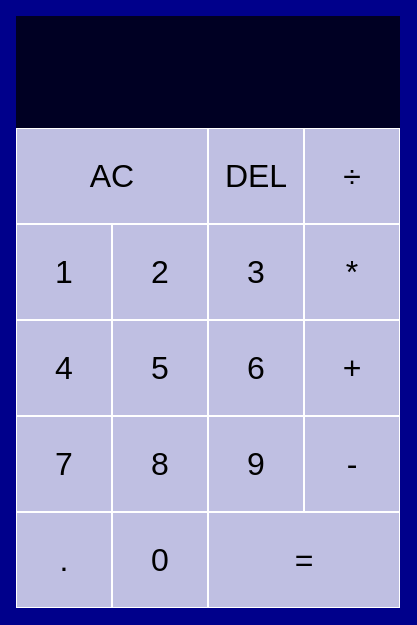
Calculator › displays digits and operations correctly
The width and height of the screenshot is (417, 625).
Click the button with test id "one" at (64, 272), box [16,224,112,320]
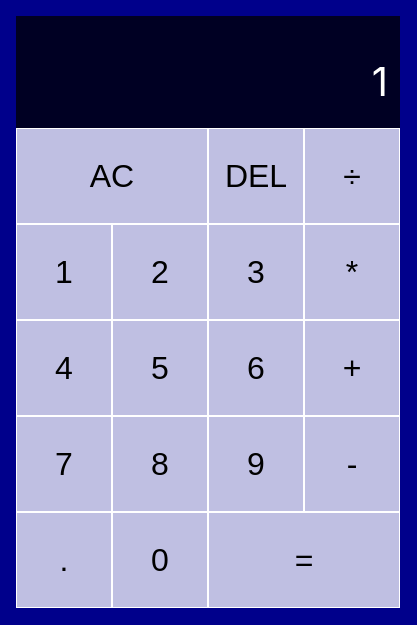
Click the button with test id "two" at (160, 272), box [112,224,208,320]
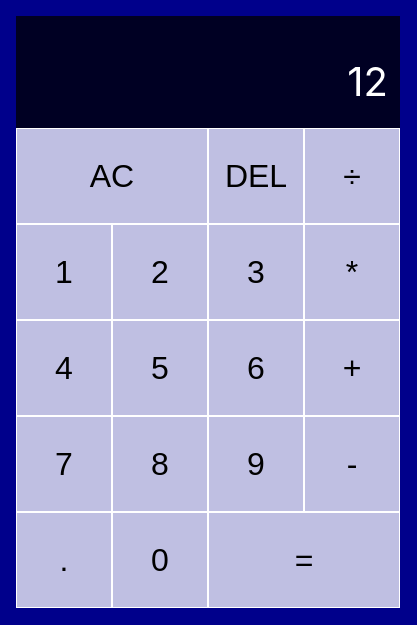
Click the button with test id "addition" at (352, 368), box [304,320,400,416]
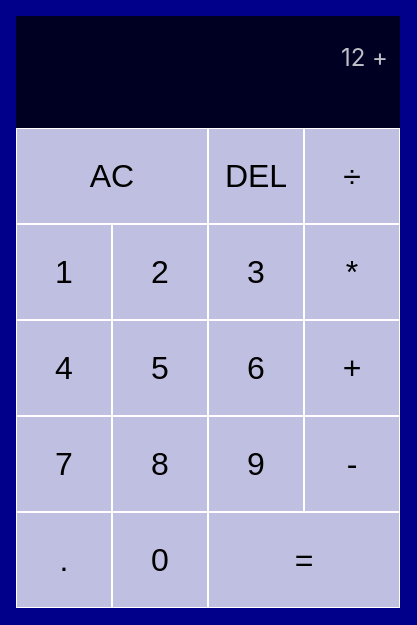
Click the button with test id "three" at (256, 272), box [208,224,304,320]
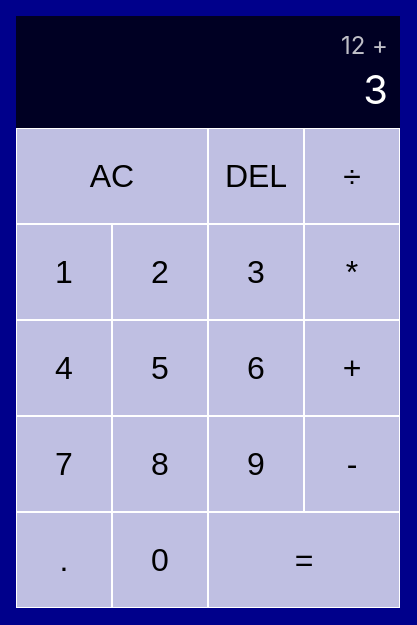
Click the button "=" at (304, 560), box [208,512,400,608]
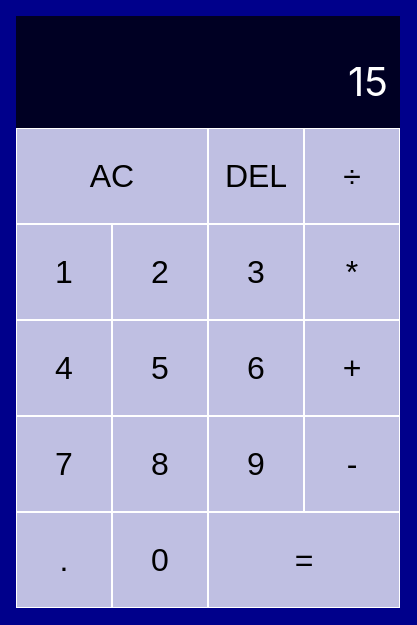
Expected: the text with test id "current-operand" reads "15", [348,57,388,106]
